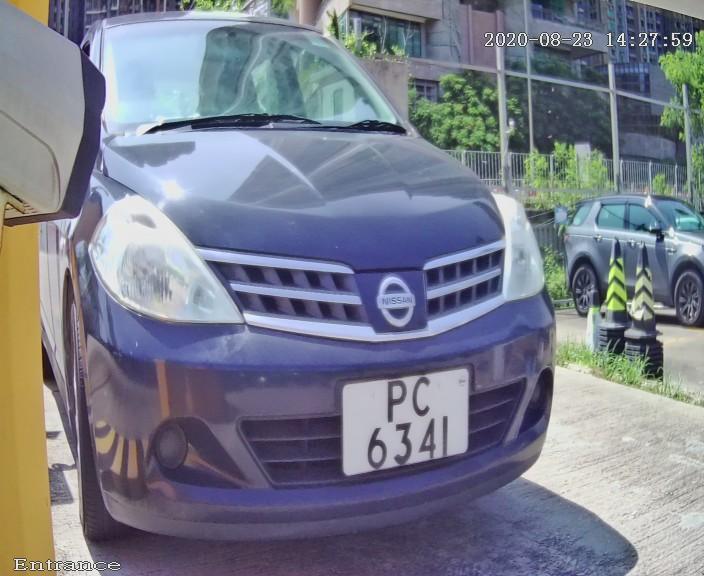Car: (23, 6, 601, 576)
License Plate: (305, 343, 497, 505)
